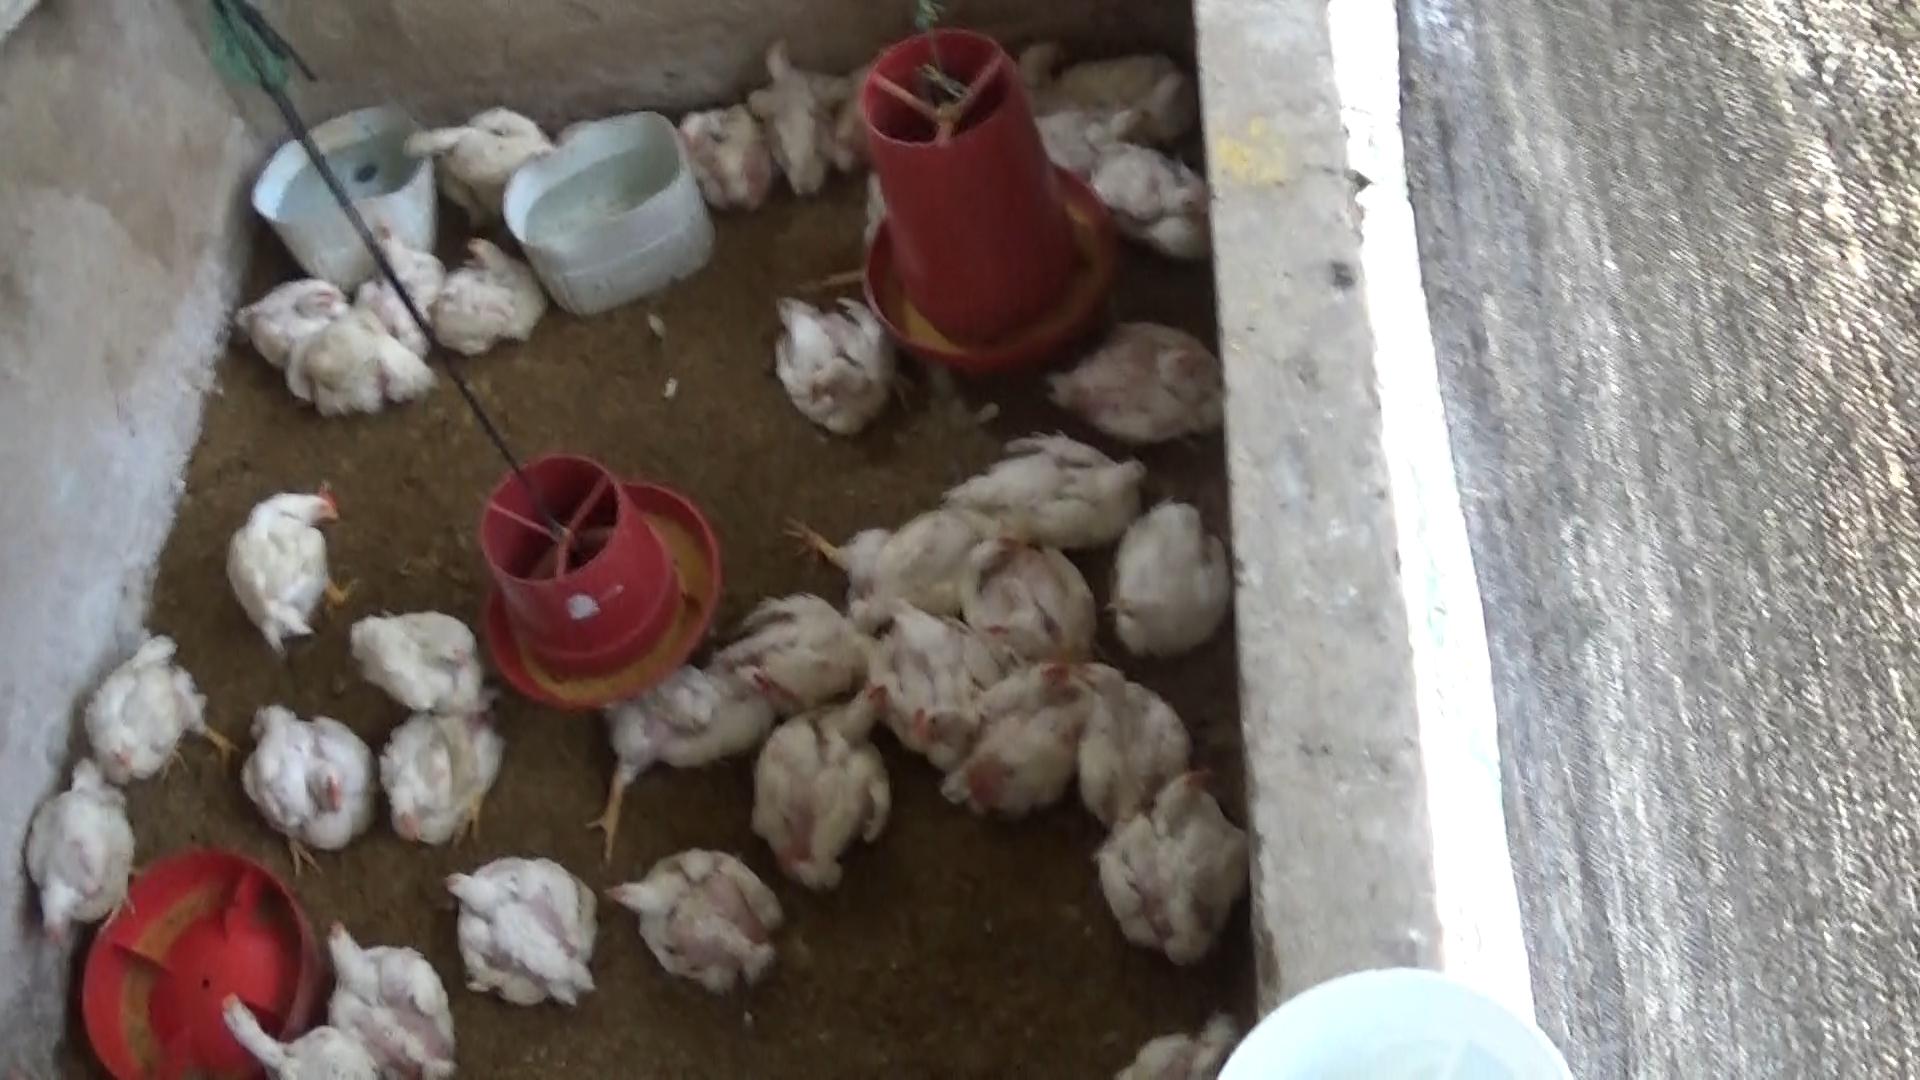Pollos: (760, 674, 902, 905), (1087, 775, 1255, 959), (578, 667, 767, 829), (433, 848, 611, 1011), (605, 843, 785, 997), (12, 748, 145, 945), (309, 911, 458, 1080), (222, 472, 363, 649), (791, 497, 978, 628), (236, 694, 378, 864), (82, 622, 236, 775), (1060, 653, 1200, 822), (953, 658, 1091, 829), (870, 601, 992, 794), (764, 277, 902, 440), (1096, 492, 1225, 662), (1044, 324, 1221, 447), (338, 612, 502, 742), (700, 585, 870, 703), (971, 440, 1155, 538), (967, 538, 1092, 676), (1000, 37, 1121, 175), (390, 712, 508, 855), (742, 33, 856, 179), (208, 984, 371, 1080), (1096, 128, 1212, 257), (417, 94, 551, 196), (295, 309, 425, 411), (435, 241, 555, 348), (222, 268, 342, 367), (1048, 44, 1187, 128), (338, 214, 436, 307), (688, 94, 761, 214)
